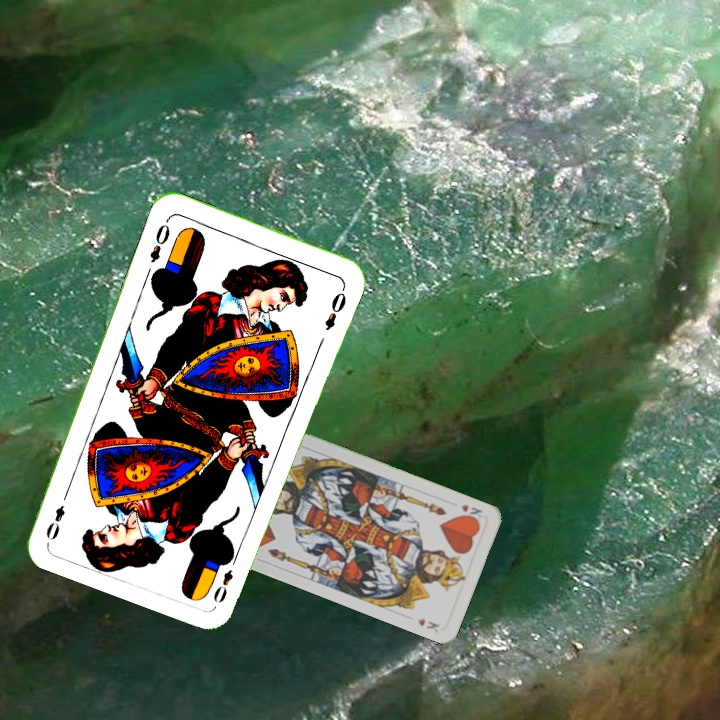EO: (145, 215, 173, 265), (210, 565, 236, 606)
HK: (457, 500, 485, 524)
